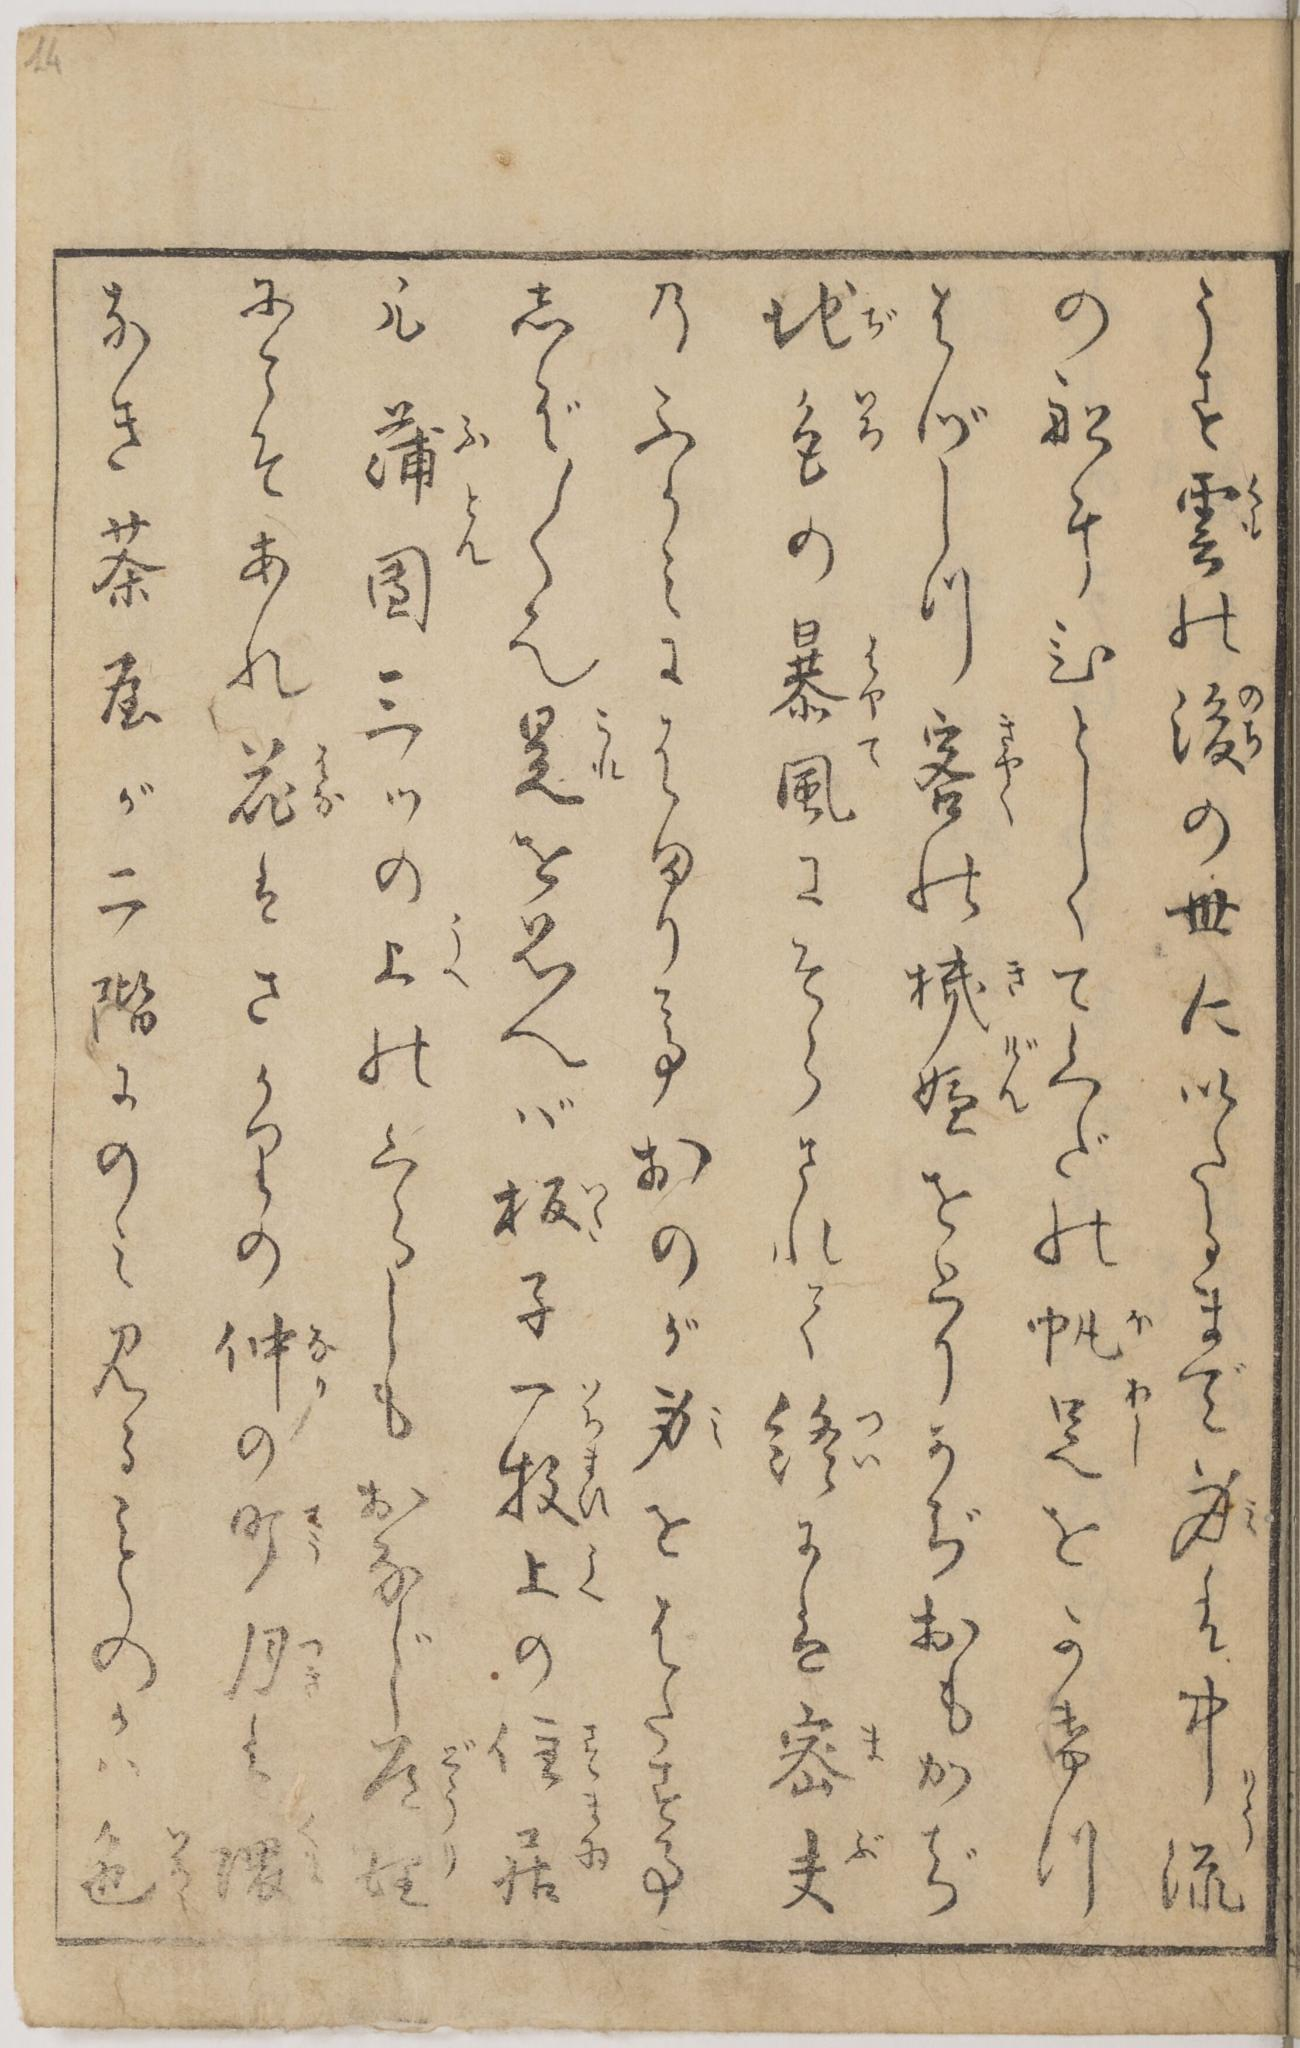MainZone-Character: (354, 502, 500, 639), (760, 609, 901, 733), (496, 1785, 630, 1912), (355, 391, 506, 500), (496, 697, 634, 814), (901, 1028, 1042, 1143), (910, 699, 1030, 827), (758, 1384, 888, 1502), (345, 1732, 491, 1833), (1030, 1375, 1154, 1493), (772, 373, 896, 491), (755, 273, 910, 366), (766, 1814, 893, 1924), (222, 725, 349, 836), (1157, 1800, 1266, 1921), (1164, 460, 1272, 579), (767, 734, 891, 836), (210, 1809, 331, 1912), (78, 1820, 200, 1918), (764, 1703, 893, 1796), (1161, 1684, 1263, 1800), (216, 1614, 331, 1712), (481, 1167, 621, 1248), (348, 1836, 476, 1924), (1161, 681, 1281, 775), (210, 1315, 342, 1400), (488, 1445, 622, 1527), (490, 1705, 619, 1782), (896, 952, 1033, 1024), (216, 1496, 336, 1575), (1166, 1461, 1267, 1552), (1024, 1302, 1152, 1369), (496, 1370, 619, 1439), (507, 1540, 613, 1608)
MainZone-Ruby: (985, 703, 1033, 833), (842, 1408, 899, 1487), (446, 485, 497, 572), (991, 1030, 1040, 1118), (1115, 1375, 1157, 1472), (576, 1439, 621, 1529), (852, 627, 894, 721), (160, 1818, 201, 1912), (567, 1788, 613, 1870), (436, 1735, 479, 1820), (309, 734, 349, 825), (845, 382, 890, 460), (303, 1315, 339, 1403), (296, 1808, 331, 1893), (590, 705, 627, 784), (1233, 681, 1269, 757), (854, 287, 901, 343), (448, 397, 493, 457), (854, 1714, 894, 1779), (576, 1373, 615, 1439), (1240, 463, 1267, 551), (300, 1626, 330, 1705), (573, 1543, 607, 1611), (842, 1817, 888, 1864), (578, 1714, 607, 1779), (578, 1175, 612, 1231), (303, 1500, 331, 1567), (437, 1833, 467, 1884), (1240, 1485, 1266, 1543), (1001, 954, 1031, 1003), (857, 731, 888, 770), (1239, 1802, 1261, 1855), (1125, 1305, 1152, 1337), (1236, 1761, 1263, 1794)
